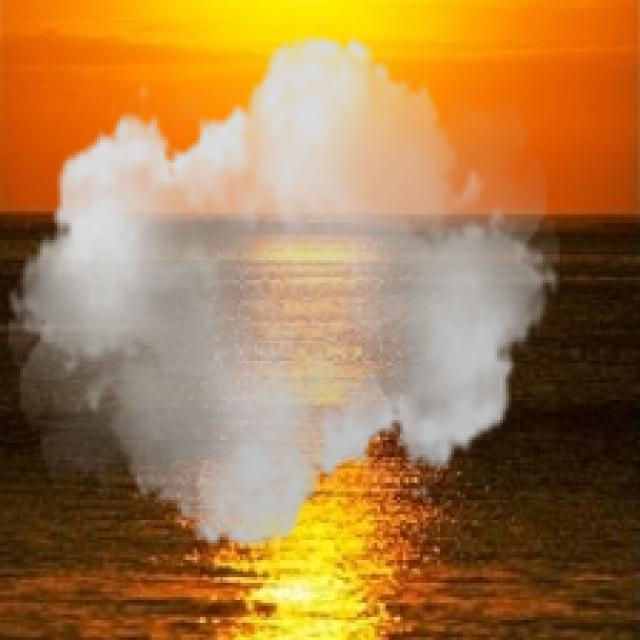smoke: (9, 14, 560, 569)
